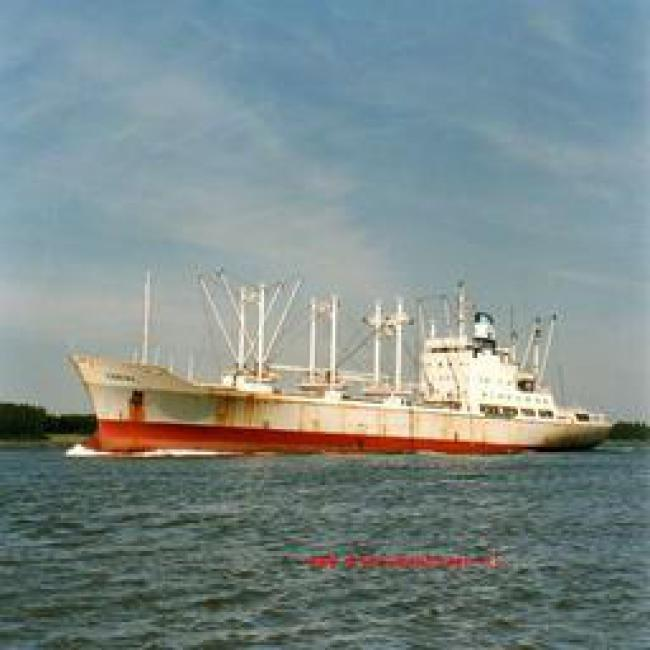Ship: (53, 309, 617, 472)
